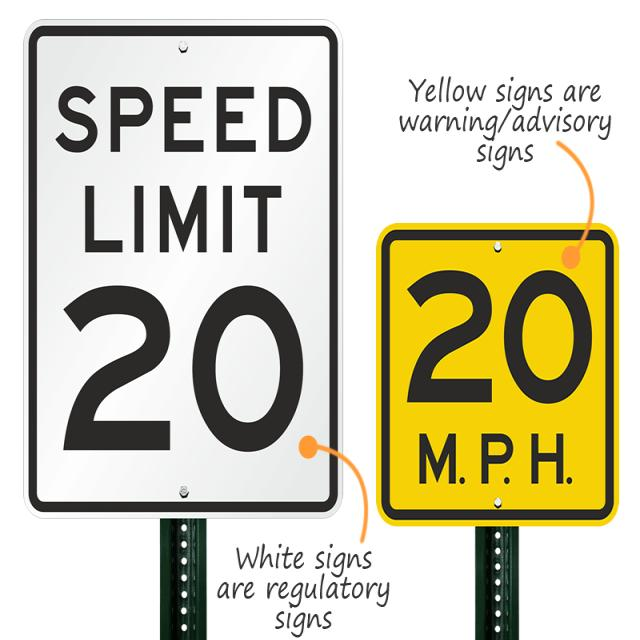speedLimit20: (24, 22, 348, 516)
